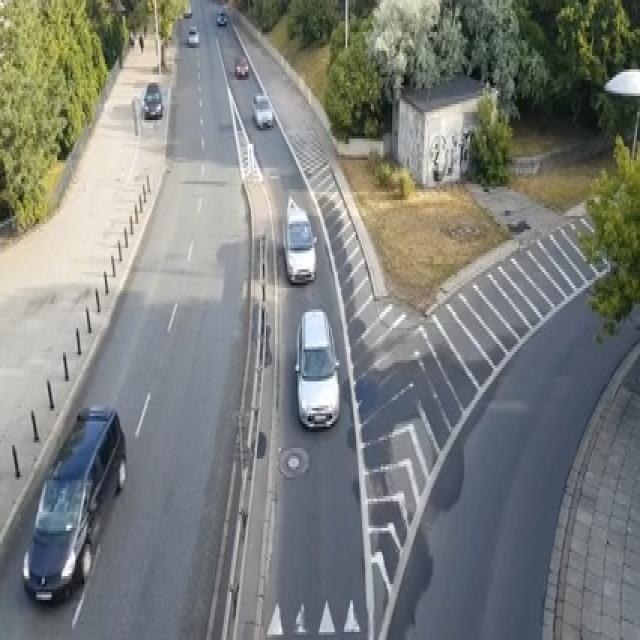car: (21, 402, 126, 602), (294, 307, 340, 429), (282, 195, 317, 282), (251, 91, 273, 128), (143, 83, 162, 117), (234, 56, 248, 77), (186, 24, 198, 45), (216, 11, 227, 24), (129, 30, 134, 46), (184, 8, 192, 16)
